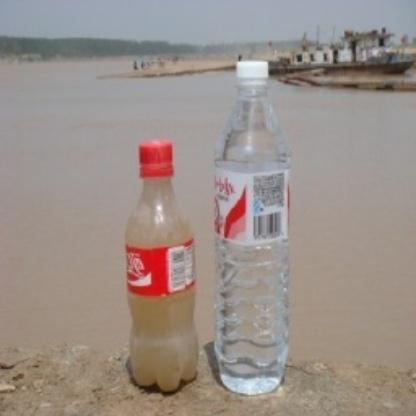plastic bottle: (212, 58, 290, 396), (125, 138, 200, 393)
